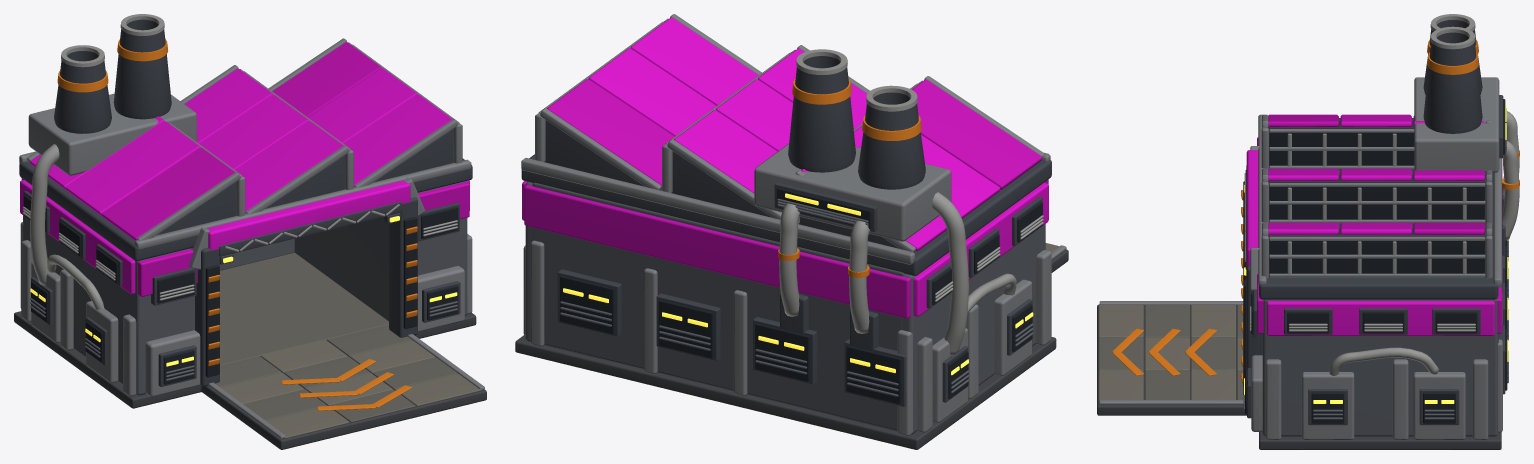
The model's file is factory.glb.
3 renders of one model, left to right at view 1: azimuth 30°, elevation 25°; view 2: azimuth 150°, elevation 25°; view 3: azimuth 270°, elevation 25°, orthographic. The views are drawn at different scales.
Visible parts, largest first — view 1: Factory.001; view 2: Factory.001; view 3: Factory.001.
Part boxes in pixels (x1,y1,x2,y2): Factory.001: (14,14,486,449); Factory.001: (515,14,1068,449); Factory.001: (1097,14,1519,449).
Bounding box in the file's own units: 5.28 × 4.03 × 5.22.
